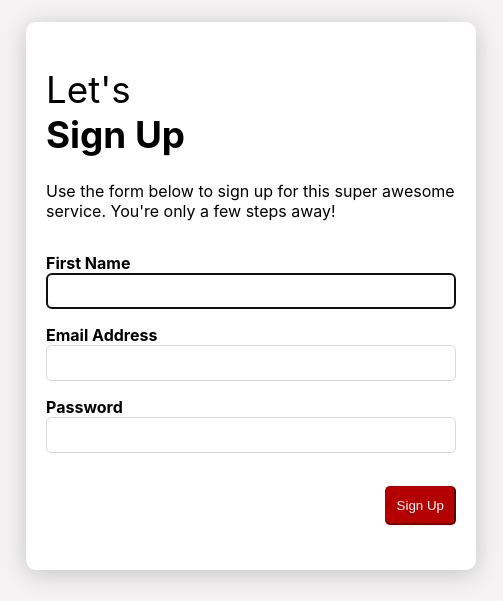
Sign up for the service and render User Registration Confirmation screen
Simulate typing 'PRAVEEN KUMAR'
In the field with test id "firstName": (251, 291) [46, 273, 456, 309], type "PRAVEEN KUMAR"
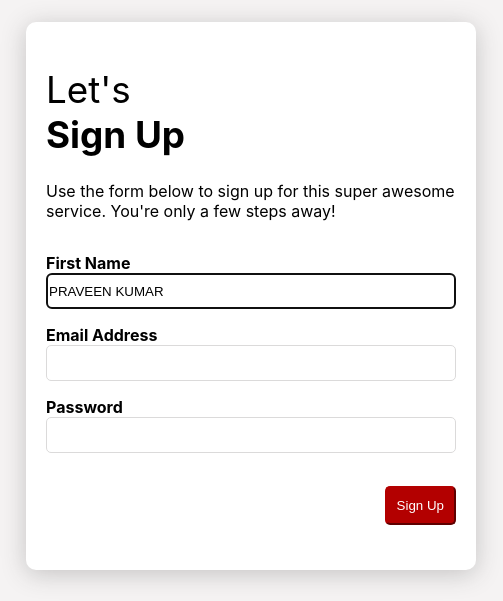
Simulate typing 'password@123'
In the password field with test id "password": (251, 435) [46, 417, 456, 453], type "password@123"
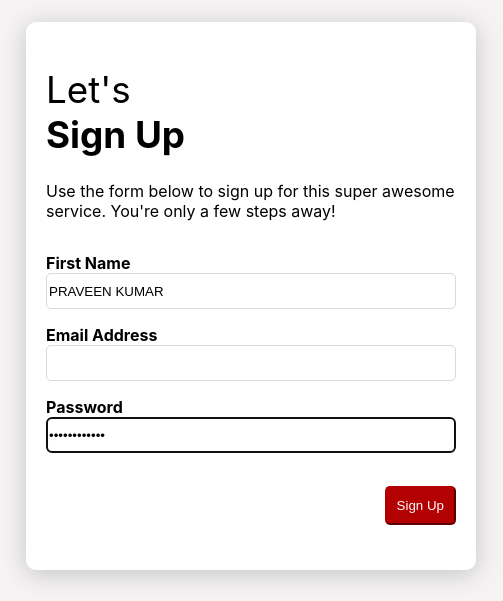
Simulate typing 'be.praveen@gmail.com'
In the field with test id "email": (251, 363) [46, 345, 456, 381], type "be.praveen@gmail.com"
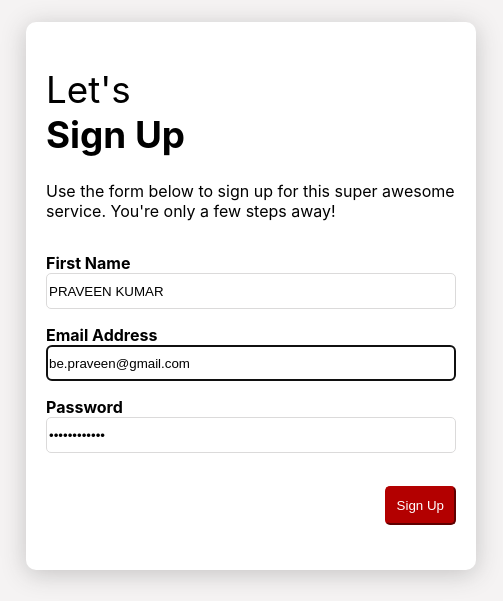
Click the button "Sign Up": (420, 506) [385, 486, 456, 525]
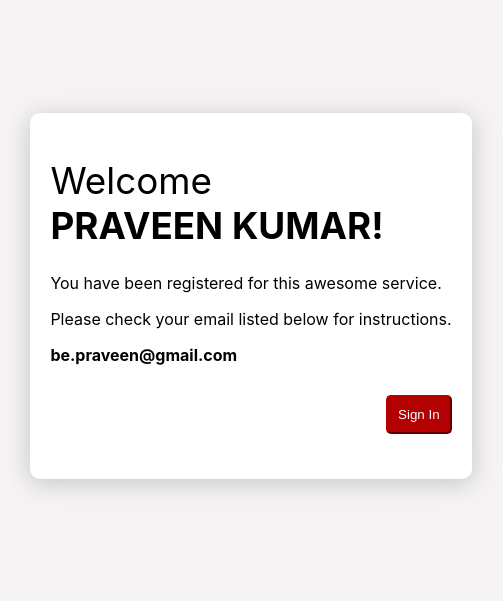
expect the heading "Welcome PRAVEEN KUMAR!" is shown: met, box [50, 158, 384, 248]
expect the text "You have been registered for this awesome service." is shown: met, box [50, 273, 452, 293]
expect the text "Please check your email listed below for instructions." is shown: met, box [50, 309, 452, 329]
